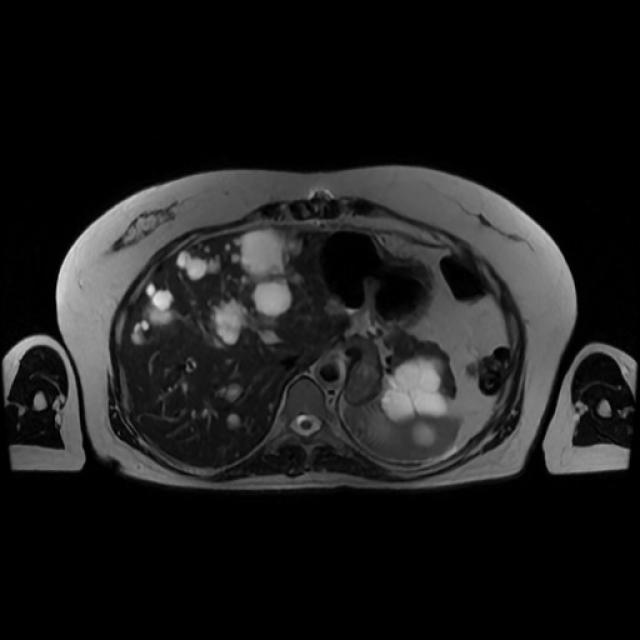sol: (381, 355, 448, 418)
